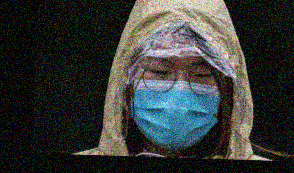with_mask: (128, 55, 221, 150)
